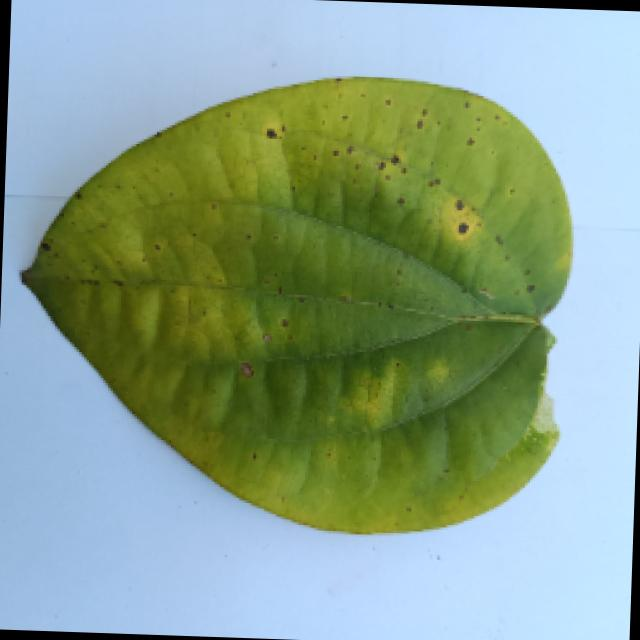slow-decline: (0, 54, 598, 544)
